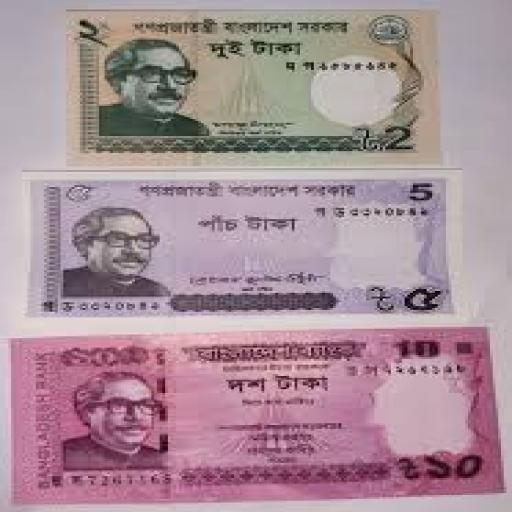10taka: (11, 329, 501, 503)
2taka: (72, 9, 438, 162)
5taka: (28, 170, 457, 319)
